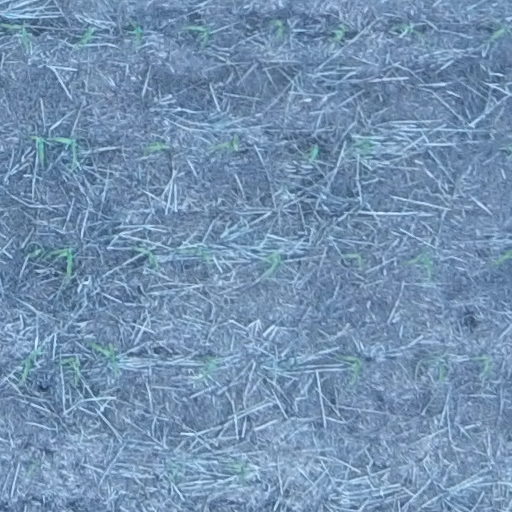planta: (87, 340, 119, 374), (16, 346, 43, 383), (45, 245, 72, 279), (132, 241, 160, 270), (51, 137, 77, 167), (1, 23, 29, 50), (57, 355, 82, 385), (402, 252, 431, 276), (186, 23, 210, 47), (261, 250, 282, 277), (182, 245, 212, 263), (27, 133, 44, 164), (208, 135, 239, 151), (200, 353, 218, 380), (351, 137, 375, 157), (344, 355, 361, 382), (339, 252, 364, 270), (488, 22, 511, 41), (396, 23, 424, 38), (75, 27, 95, 47), (433, 357, 446, 382), (269, 20, 286, 38), (130, 20, 142, 45), (477, 355, 492, 374)
